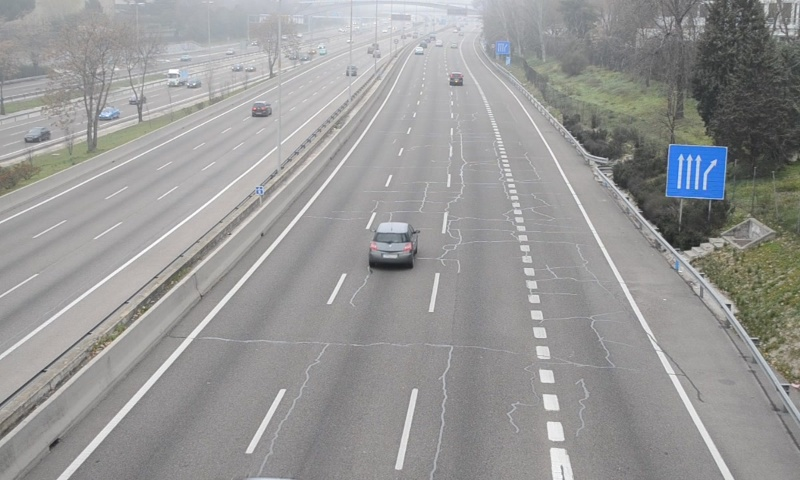car: (369, 223, 416, 267), (448, 70, 463, 86)
